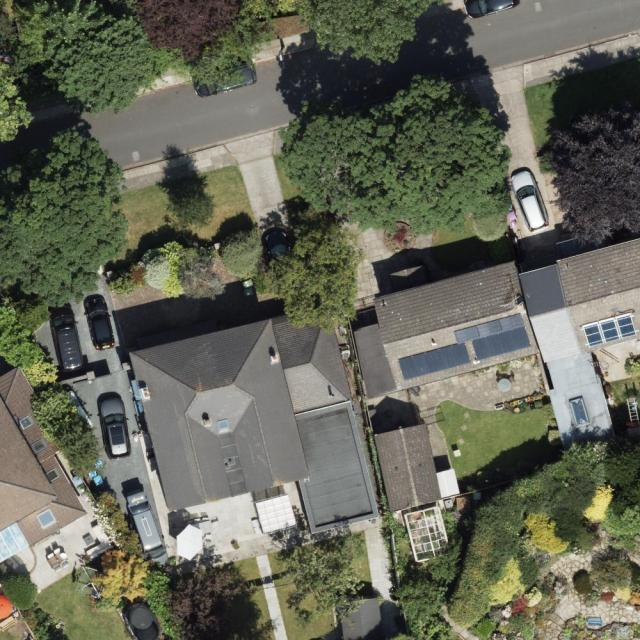roof: (352, 238, 640, 457), (127, 305, 383, 536), (0, 363, 89, 565), (372, 422, 461, 513), (342, 598, 383, 640)
skylight: (0, 522, 29, 564), (568, 395, 592, 428), (38, 508, 58, 530), (30, 435, 49, 455), (45, 467, 62, 485), (18, 415, 35, 430), (216, 417, 231, 432)
solar: (399, 313, 532, 379), (580, 311, 638, 348)
